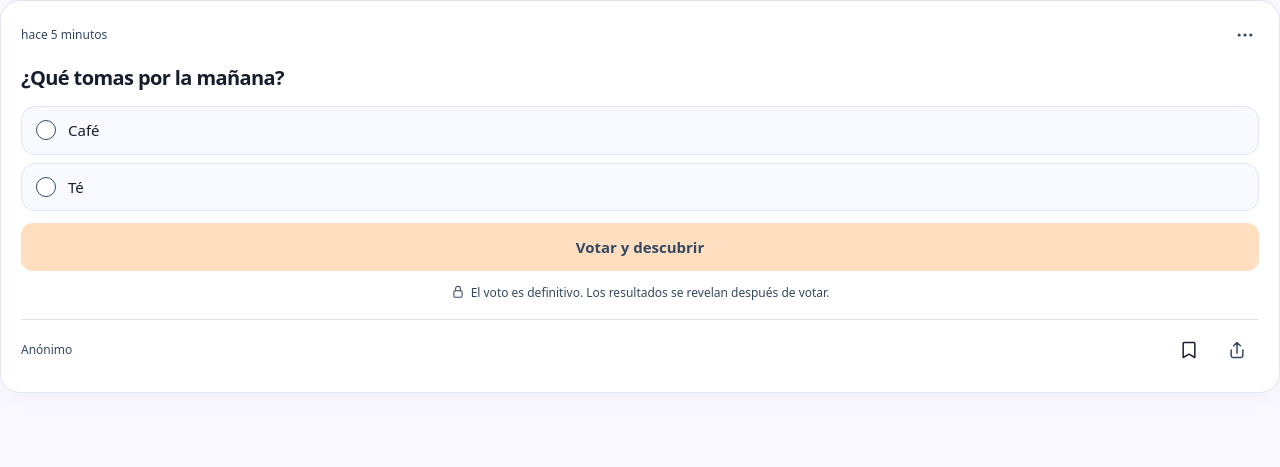
PollCard › V2-033: al elegir y confirmar vota y esa tarjeta pasa a mostrar los resultados
Click the radio button labelled "Té" at (46, 187), box [36,177,56,197]
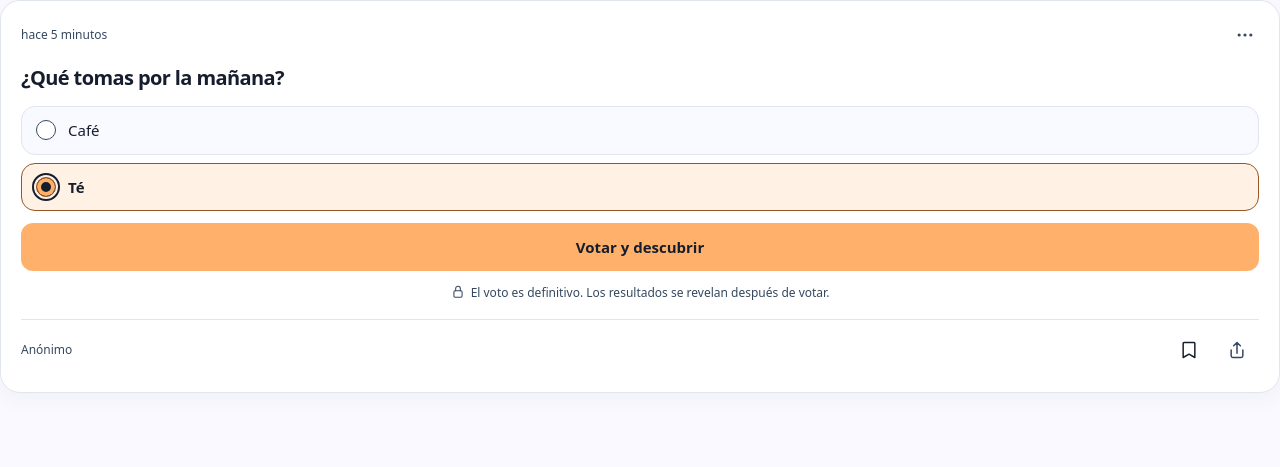
Click the button "Votar y descubrir" at (640, 247), box [21,223,1259,271]
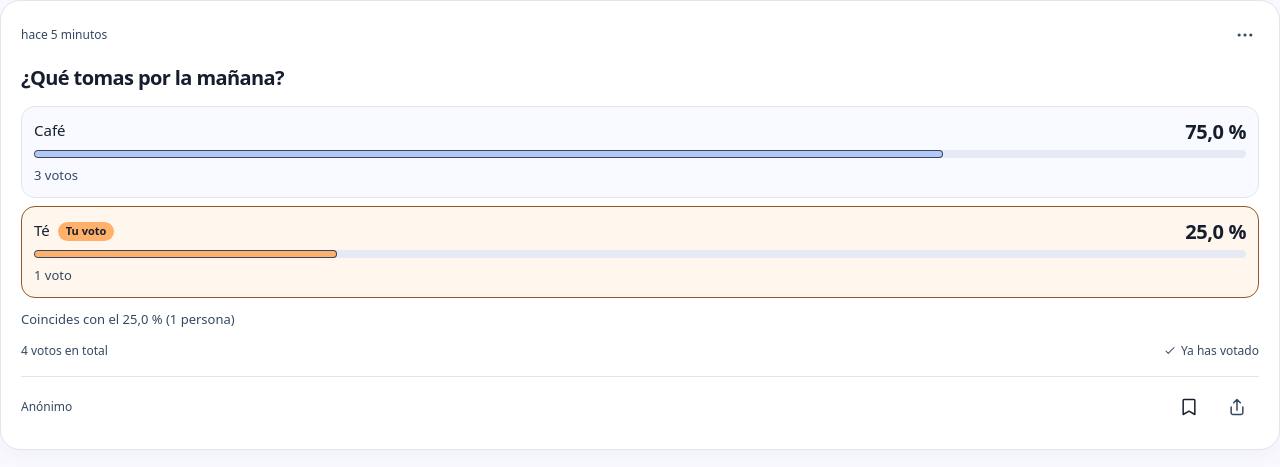
Check: the text "Tu voto" is shown, box [58,222,114,240]
Check: the text "75,0 %" is shown, box [1185,122,1246,142]
Check: the button "Votar y descubrir" is gone
